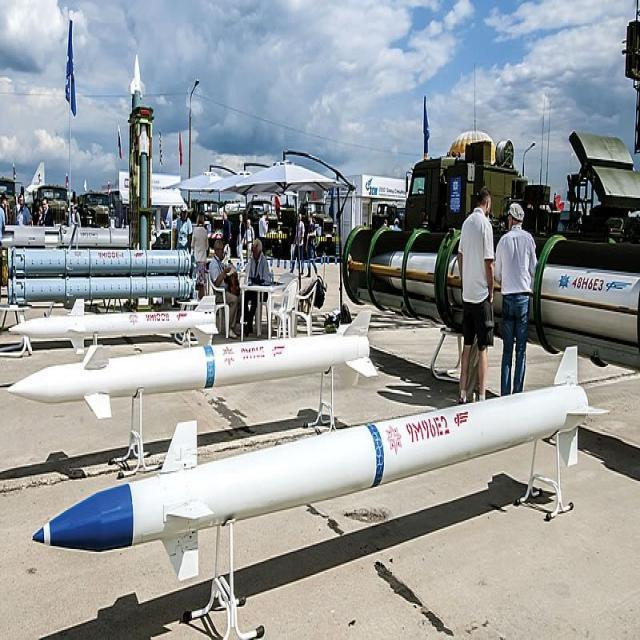missile: (14, 357, 625, 587), (0, 325, 393, 414)
